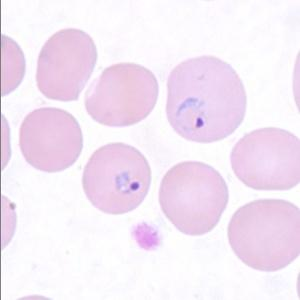Infected: (165, 55, 247, 141), (81, 142, 153, 215)
Uninfected: (158, 161, 227, 238), (227, 199, 300, 271), (82, 63, 158, 126), (36, 28, 96, 103), (230, 128, 300, 190), (20, 108, 81, 171)
